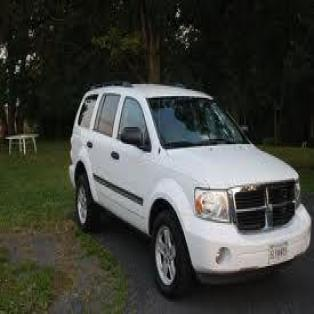Auto: (70, 83, 312, 300)
